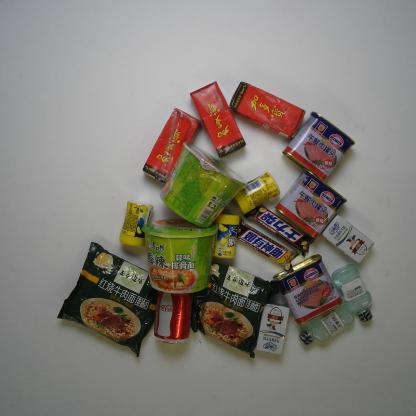Canned Food: (273, 167, 349, 240), (282, 110, 356, 184), (271, 253, 344, 326)
Chocolate: (243, 203, 315, 258), (236, 215, 300, 272)
Drink: (141, 106, 203, 184), (229, 80, 307, 139), (189, 81, 247, 159), (153, 290, 195, 345)
Gum: (233, 170, 282, 215), (118, 200, 154, 247), (212, 212, 242, 260)
Instant Noodles: (56, 241, 159, 358), (190, 260, 280, 359), (159, 141, 249, 229), (141, 218, 219, 296)
Milk: (320, 212, 375, 264), (254, 300, 291, 356)
Personal Hygiene: (331, 262, 374, 324), (298, 302, 355, 346)
